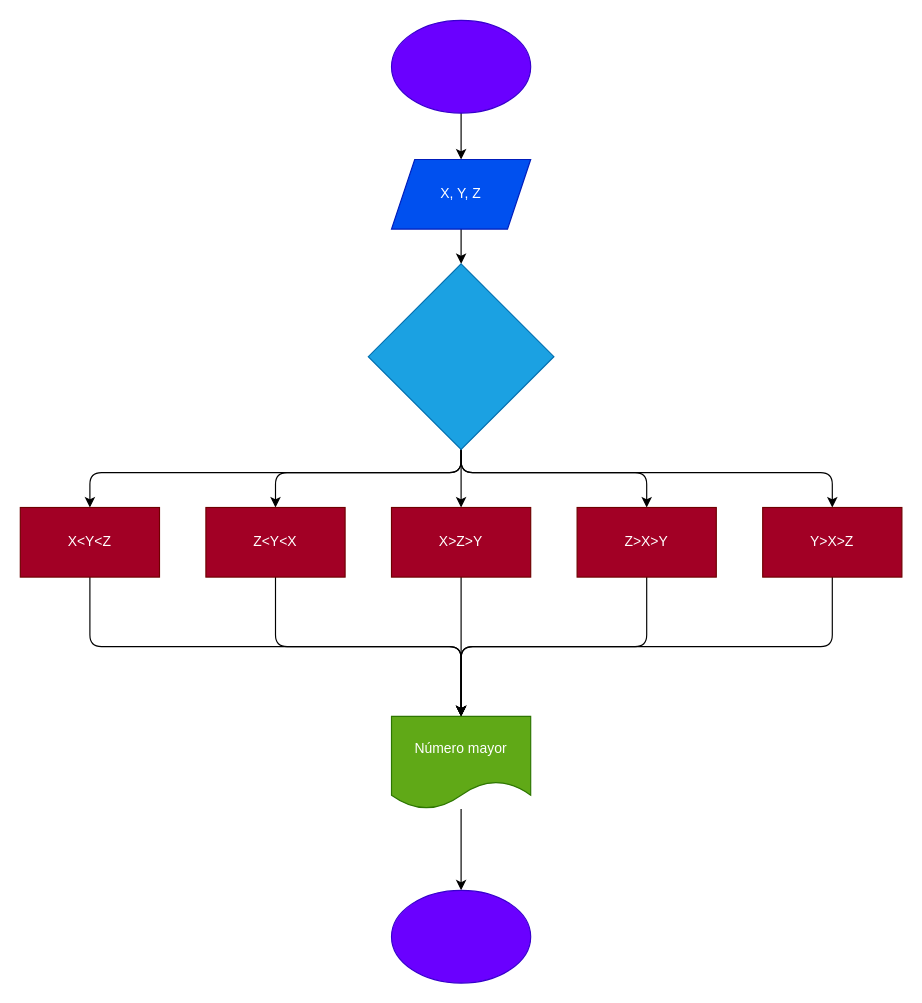
The diagram is 922 pixels wide and 1003 high, and some of its shapes have lost their labels. The shapes that lost their labels are listed below. From the top down, each one's centre as x and y in pixels, then its label:
(460,66): INICIO
(460,356): X>Y>Z Y>X>Z Z>Y>X
(460,936): FIN
